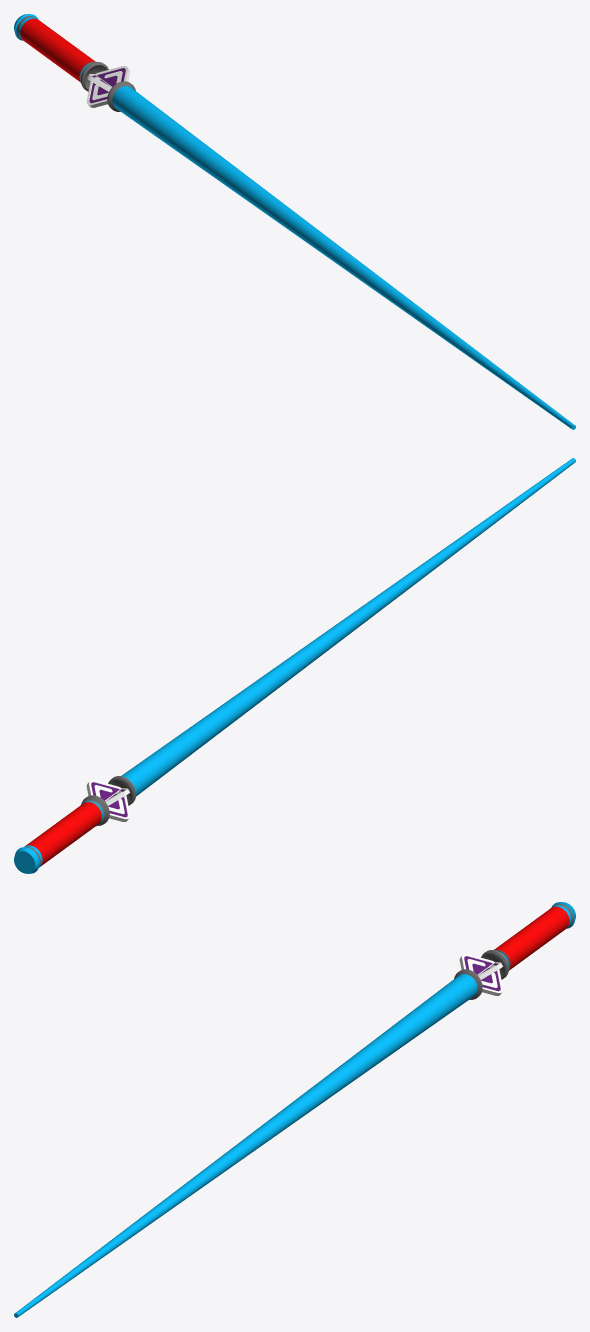
File: cube-community-new.glb
The picture shows the model from 3 angles, top to bottom: view 1: azimuth 30°, elevation 25°; view 2: azimuth 150°, elevation 25°; view 3: azimuth 330°, elevation 25°; orthographic projection.
Parts seen in each view (by area): view 1: Right__Glow__RightSaberMat__0, Left__HandleSquiggle__LeftHandle__0, Left__Handle__CCHandle__0; view 2: Right__Glow__RightSaberMat__0, Left__HandleSquiggle__LeftHandle__0, Left__Handle__CCHandle__0; view 3: Right__Glow__RightSaberMat__0, Left__HandleSquiggle__LeftHandle__0, Left__Handle__CCHandle__0.
Part boxes in pixels (box(x1,y1,x2,y2)): Right__Glow__RightSaberMat__0: box(14, 14, 575, 429); Left__HandleSquiggle__LeftHandle__0: box(20, 18, 95, 81); Left__Handle__CCHandle__0: box(16, 16, 135, 111); Right__Glow__RightSaberMat__0: box(14, 458, 575, 873); Left__HandleSquiggle__LeftHandle__0: box(25, 802, 101, 867); Left__Handle__CCHandle__0: box(25, 776, 136, 865); Right__Glow__RightSaberMat__0: box(14, 902, 575, 1317); Left__HandleSquiggle__LeftHandle__0: box(494, 906, 569, 969); Left__Handle__CCHandle__0: box(454, 904, 573, 999).
Size of the model in its own units: 0.0506 by 0.0375 by 1.17.
